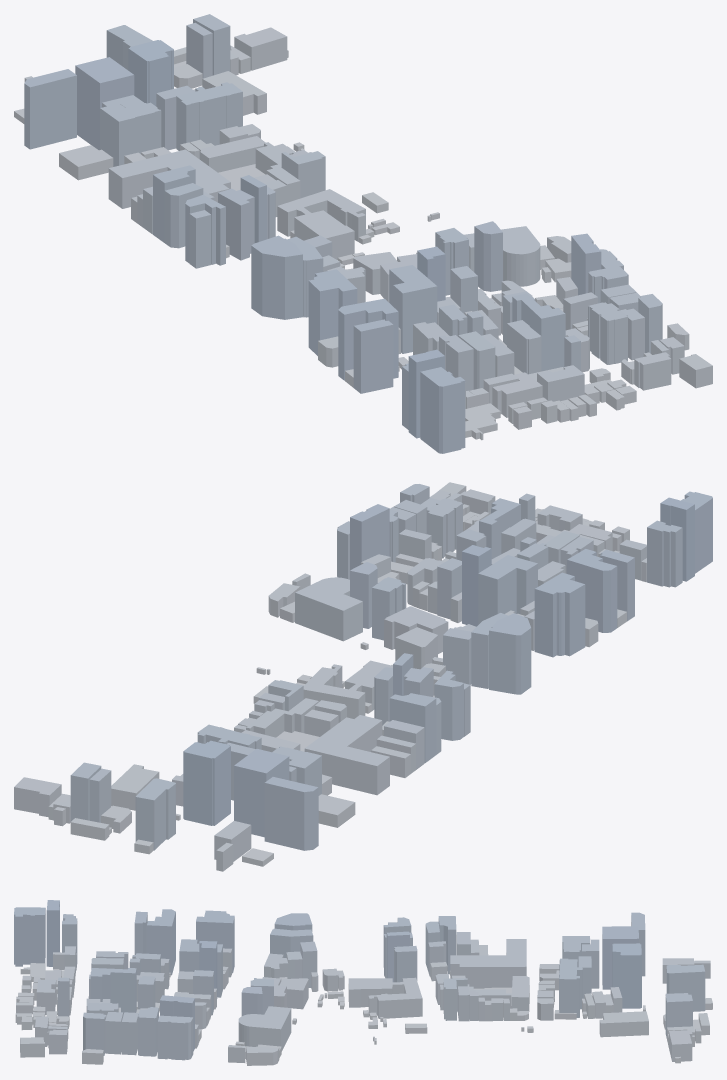
3 views of the same model, one above another, from view 1: azimuth 30°, elevation 25°; view 2: azimuth 150°, elevation 25°; view 3: azimuth 270°, elevation 25° (orthographic). The views are drawn at different scales.
Bounding box in the file's own units: 188 × 45.51 × 507.
